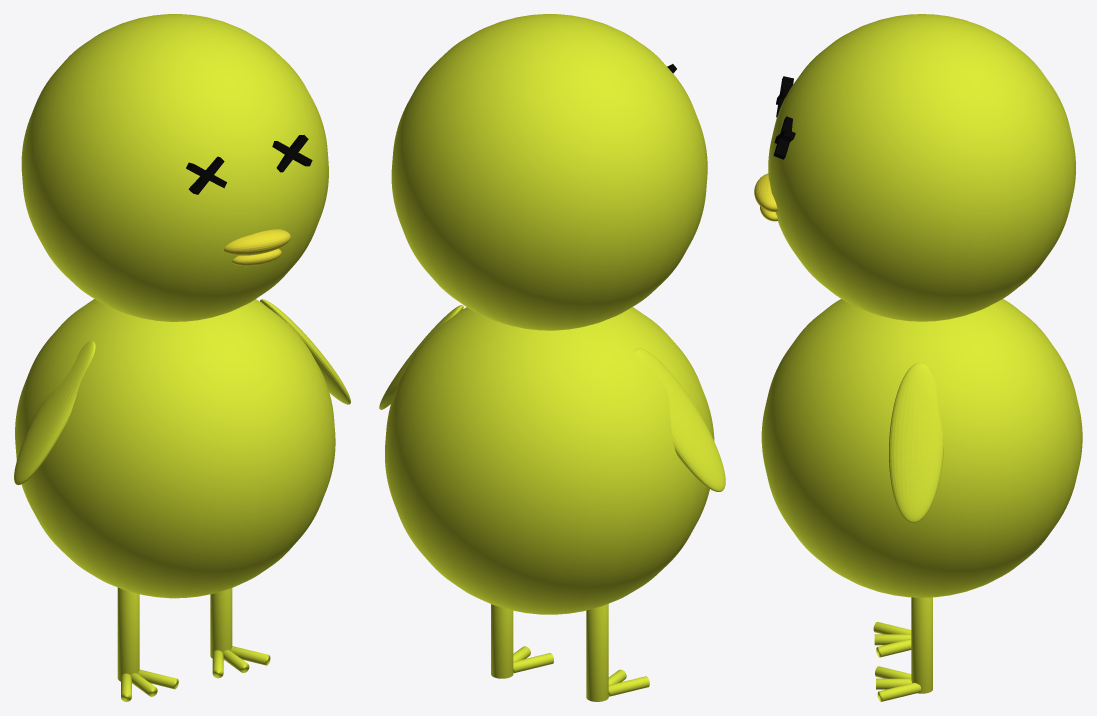
Rendered from hiyoko.fbx.
3 views of the same model, side by side, from view 1: azimuth 30°, elevation 25°; view 2: azimuth 150°, elevation 25°; view 3: azimuth 270°, elevation 25° (orthographic). The views are drawn at different scales.
Parts seen in each view (by area): view 1: 球, 球.001, 球.003, 円柱.001, 円柱.002, 球.002, 球.004; view 2: 球.001, 球, 球.003, 円柱.001, 円柱.002, 球.002; view 3: 球.001, 球, 球.002, 円柱.002, 球.004.
Boxes of the visible parts, box(x1,y1,x2,y2) form: 球: box(15, 299, 335, 598); 球.001: box(21, 14, 328, 321); 球.003: box(14, 341, 95, 485); 円柱.001: box(117, 587, 139, 681); 円柱.002: box(210, 588, 232, 660); 球.002: box(260, 299, 350, 404); 球.004: box(224, 229, 290, 255); 球.001: box(391, 14, 707, 330); 球: box(385, 307, 714, 614); 球.003: box(634, 348, 725, 491); 円柱.001: box(586, 604, 608, 701); 円柱.002: box(491, 604, 513, 678); 球.002: box(379, 305, 463, 409); 球.001: box(768, 14, 1075, 321); 球: box(761, 299, 1082, 597); 球.002: box(889, 363, 943, 522); 円柱.002: box(911, 597, 932, 693); 球.004: box(754, 173, 777, 211).
Size of the model in its own units: 349 by 641 by 299.
